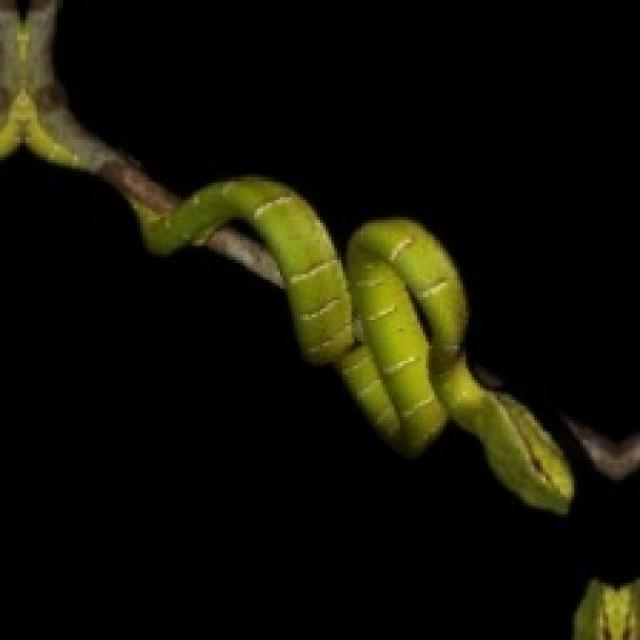north ph temple pitviper: (137, 177, 571, 511)
